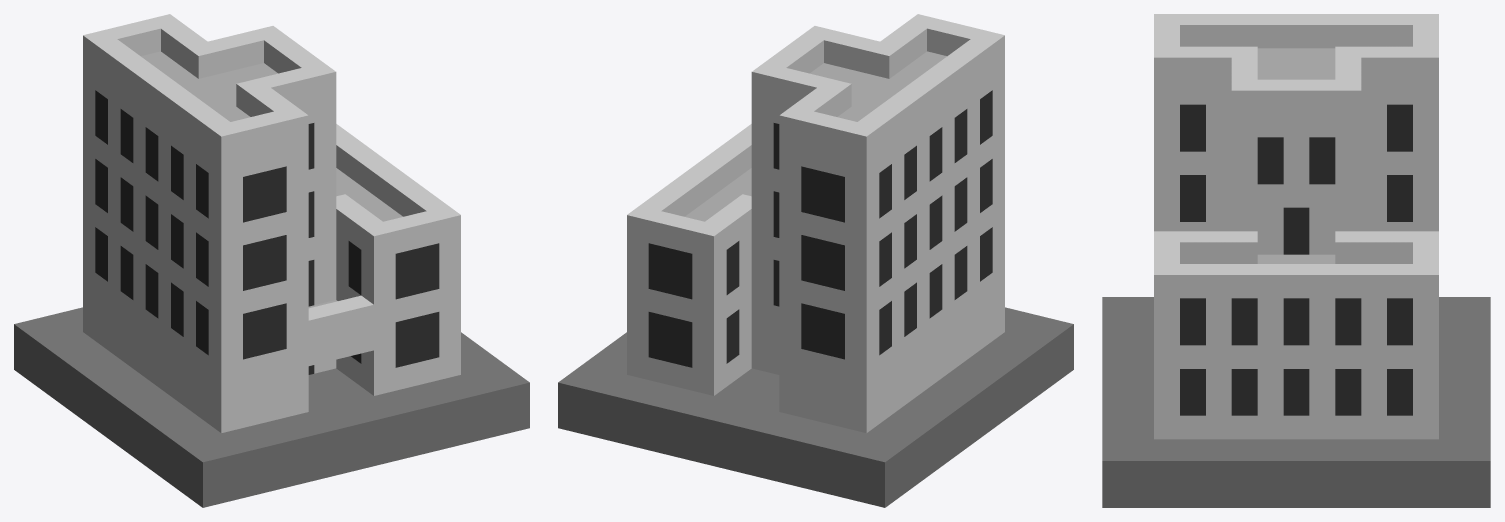
Rendered from Building02.obj.
3 renders of one model, left to right at view 1: azimuth 30°, elevation 25°; view 2: azimuth 150°, elevation 25°; view 3: azimuth 270°, elevation 25°, orthographic. The views are drawn at different scales.
Visible parts, largest first — view 1: Building02; view 2: Building02; view 3: Building02.
Part boxes in pixels (x1,y1,x2,y2): Building02: (14,14,529,507); Building02: (558,14,1073,507); Building02: (1102,14,1490,507).
Bounding box in the file's own units: 1.5 × 1.5 × 1.5.
1 material, 1 textured.
